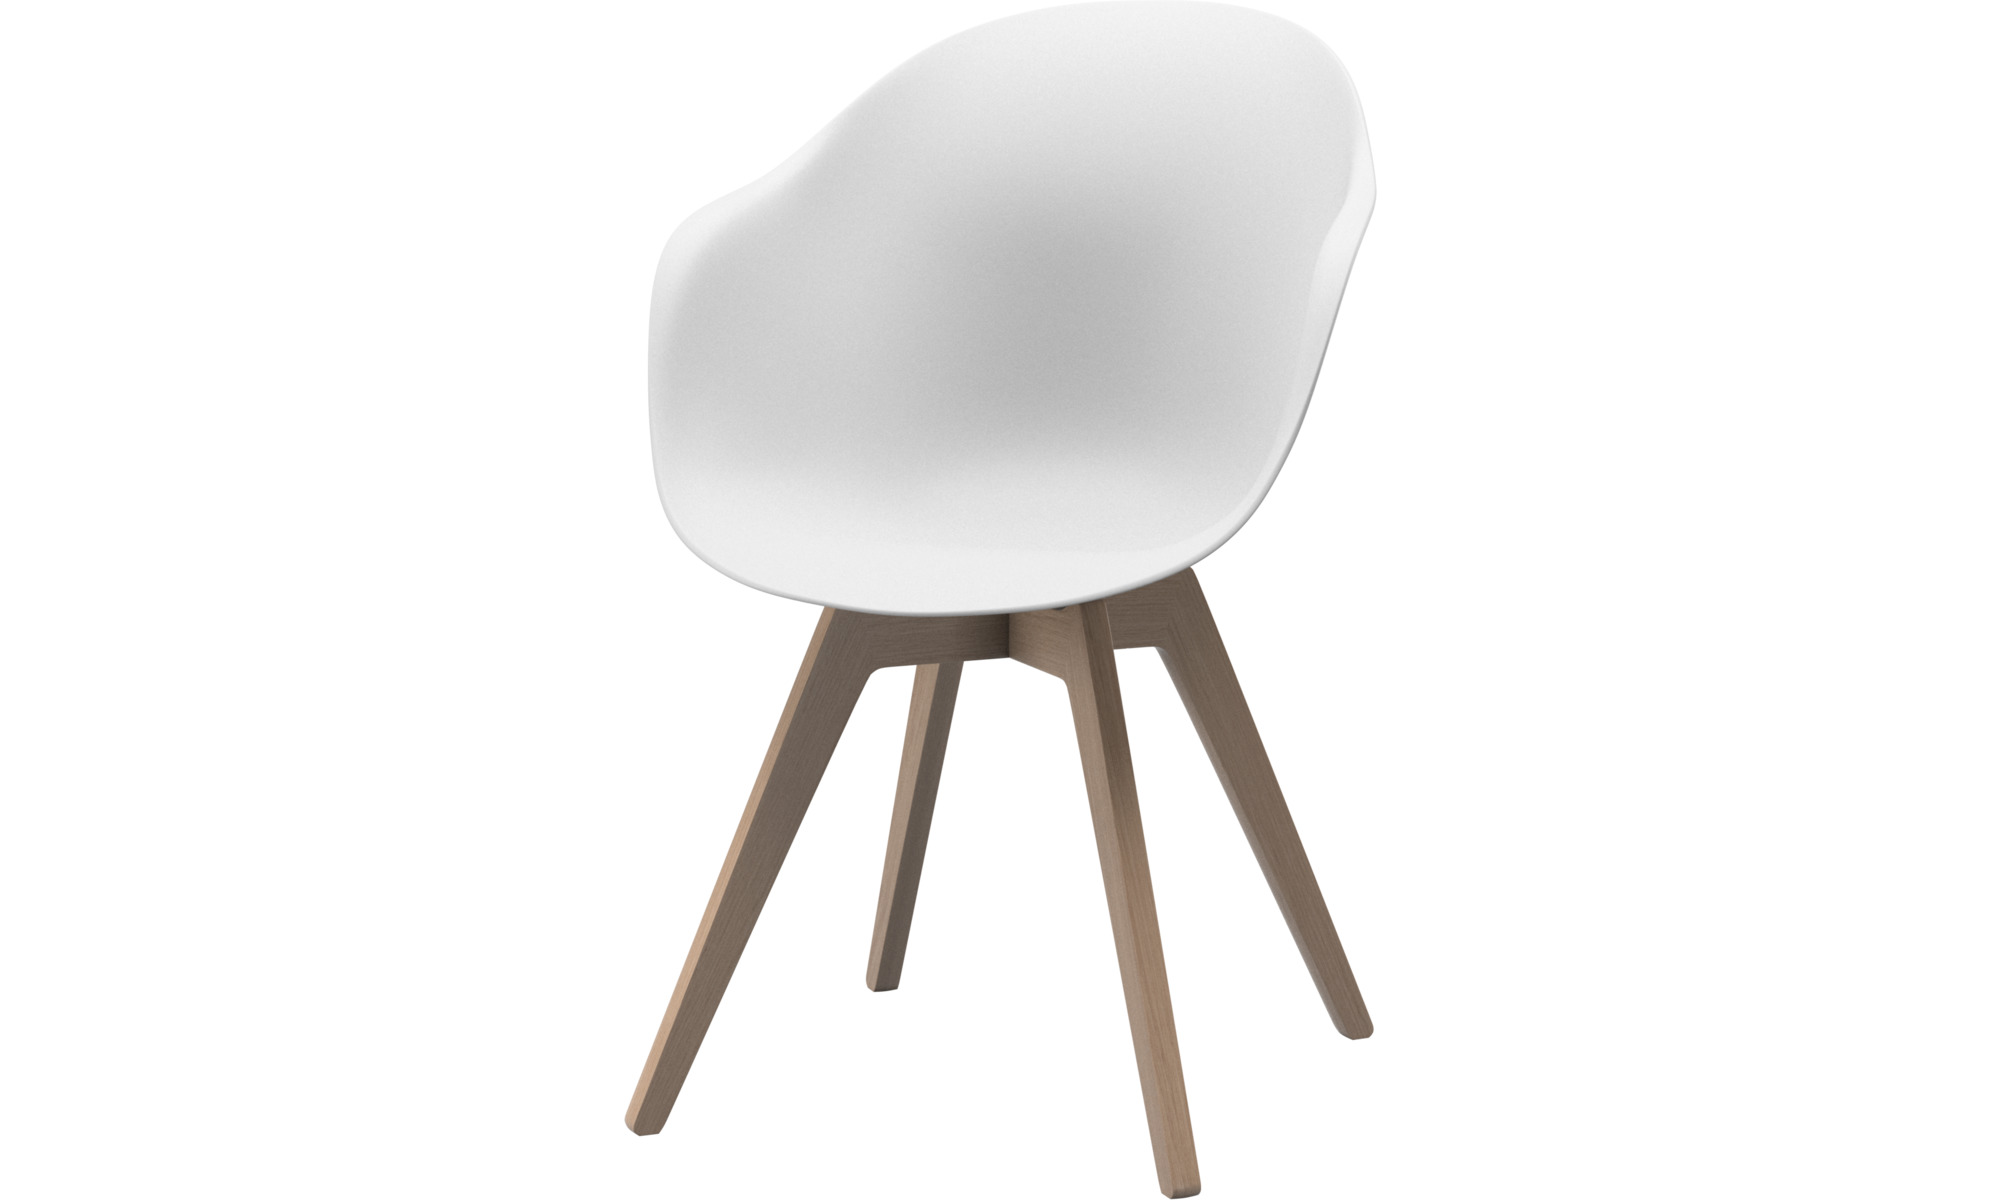kursi: (639, 1, 1381, 1200)
